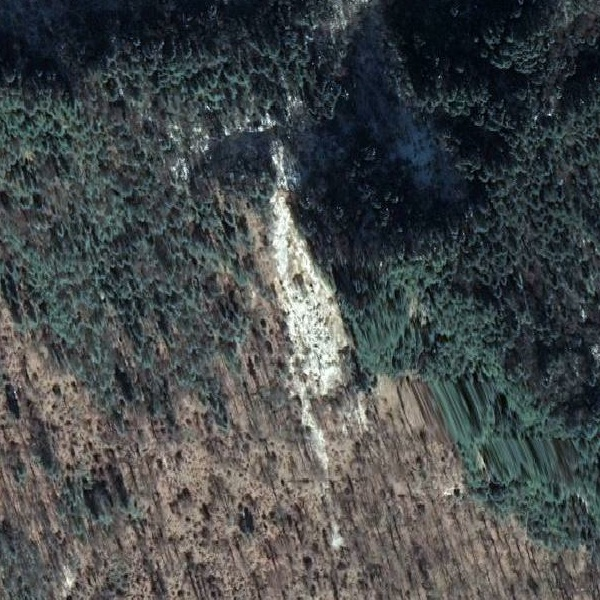slope: (258, 139, 359, 473)
